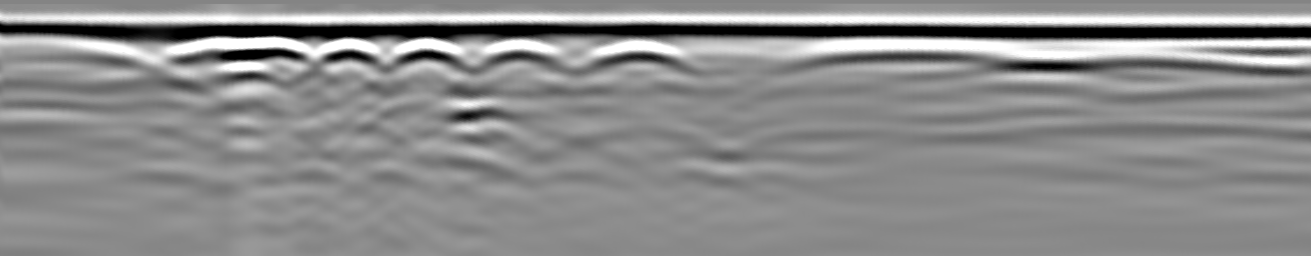steel: (814, 41, 1007, 61), (179, 38, 306, 61), (1081, 50, 1230, 69), (587, 38, 689, 65), (476, 39, 564, 61), (313, 38, 385, 62), (392, 38, 464, 62)
